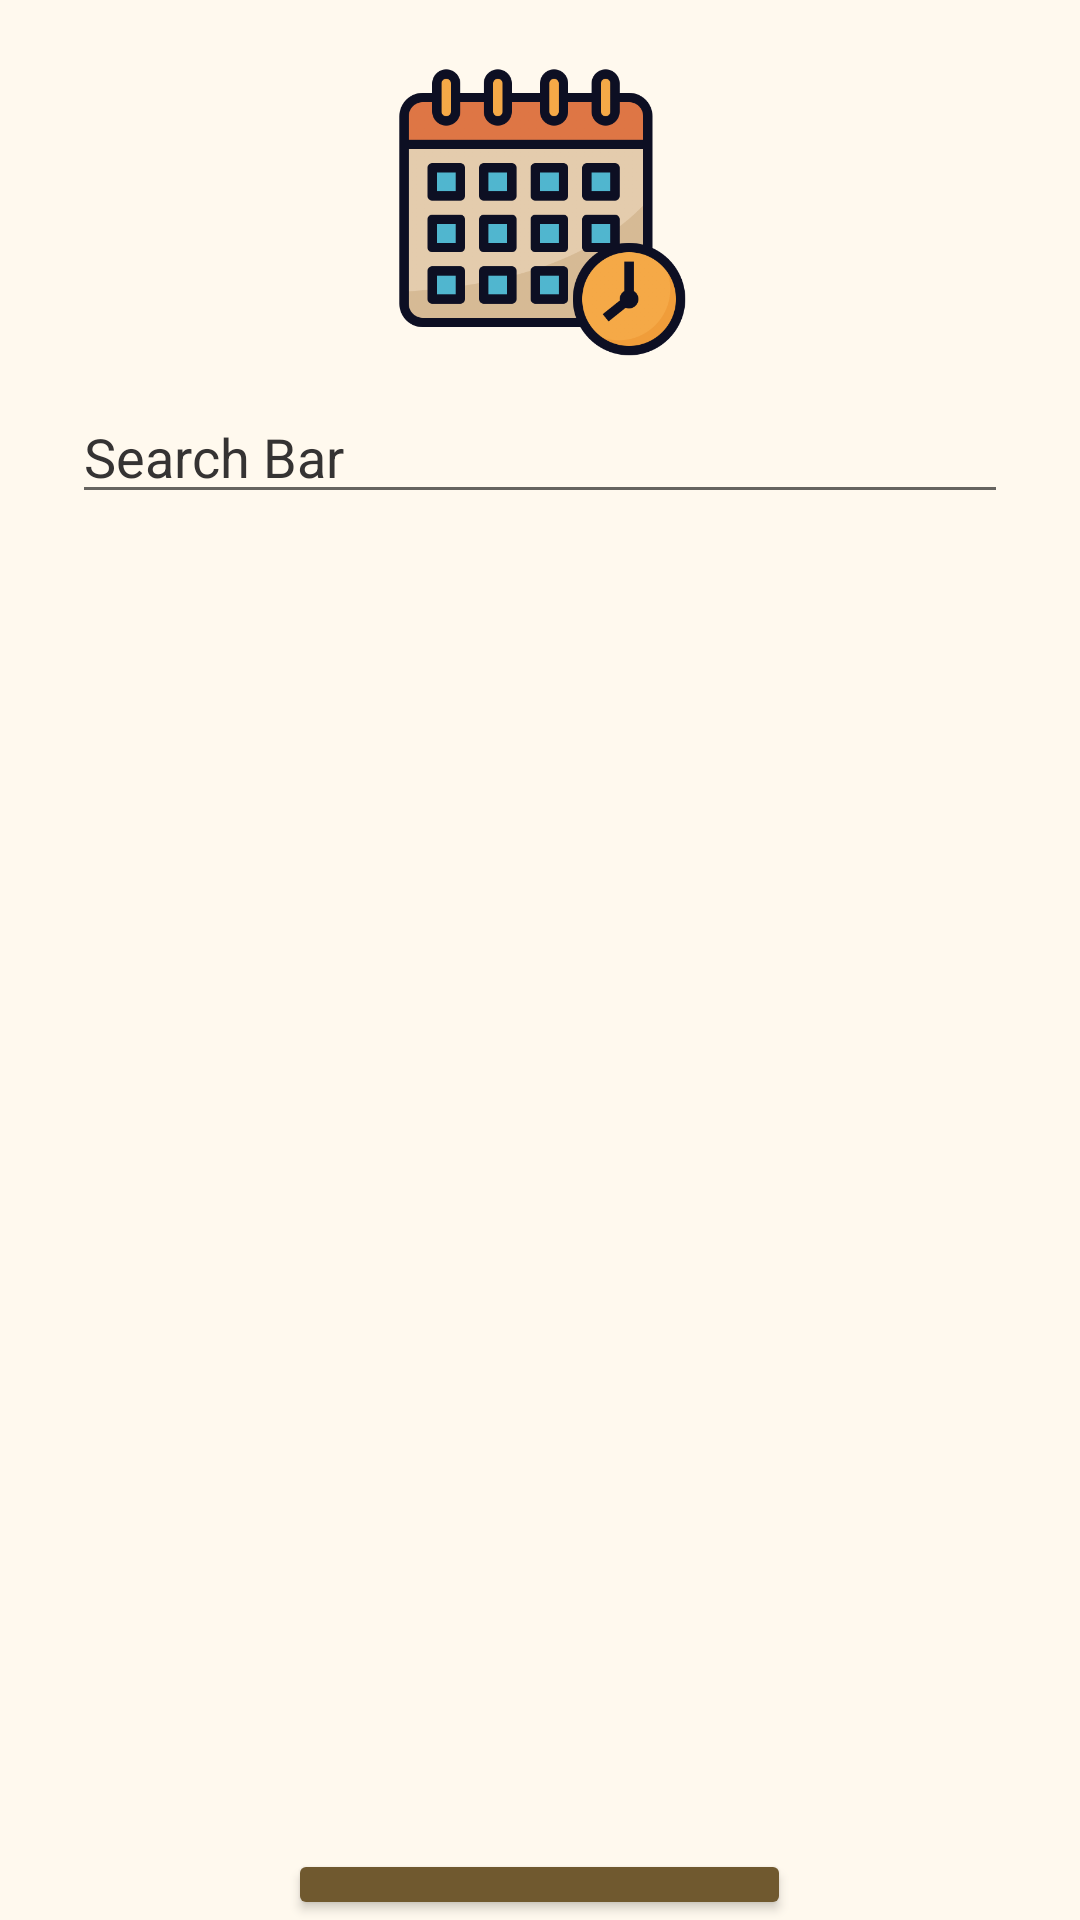

Where to tap for icons on this 1080w x 1920h app screen, as (x=x, y=y):
calendarattendance: (x=542, y=212)
